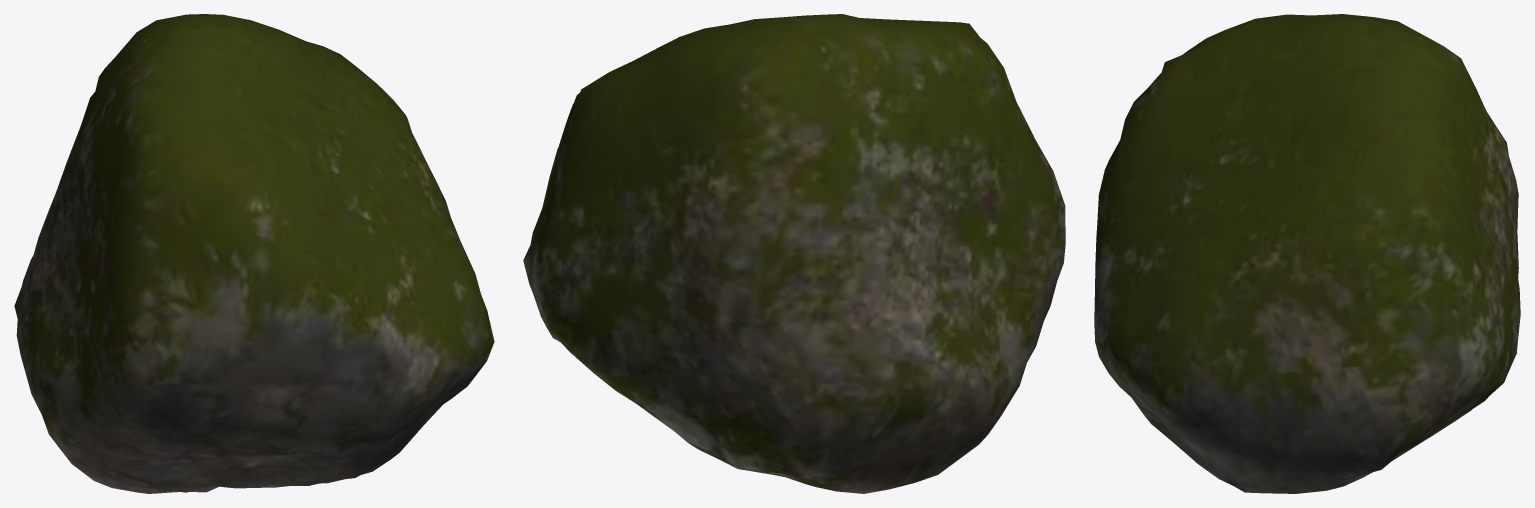
The model's file is rock_moss1.glb.
3 views of the same model, side by side, from view 1: azimuth 30°, elevation 25°; view 2: azimuth 150°, elevation 25°; view 3: azimuth 270°, elevation 25° (orthographic). The views are drawn at different scales.
Parts seen in each view (by area): view 1: A_Set; view 2: A_Set; view 3: A_Set.
Part boxes in pixels (x1=…): A_Set: x1=14, y1=14, x2=494, y2=493; A_Set: x1=523, y1=14, x2=1065, y2=493; A_Set: x1=1094, y1=14, x2=1520, y2=493.
Size of the model in its own units: 5.46 by 5.41 by 5.04.
1 material, 1 textured.
